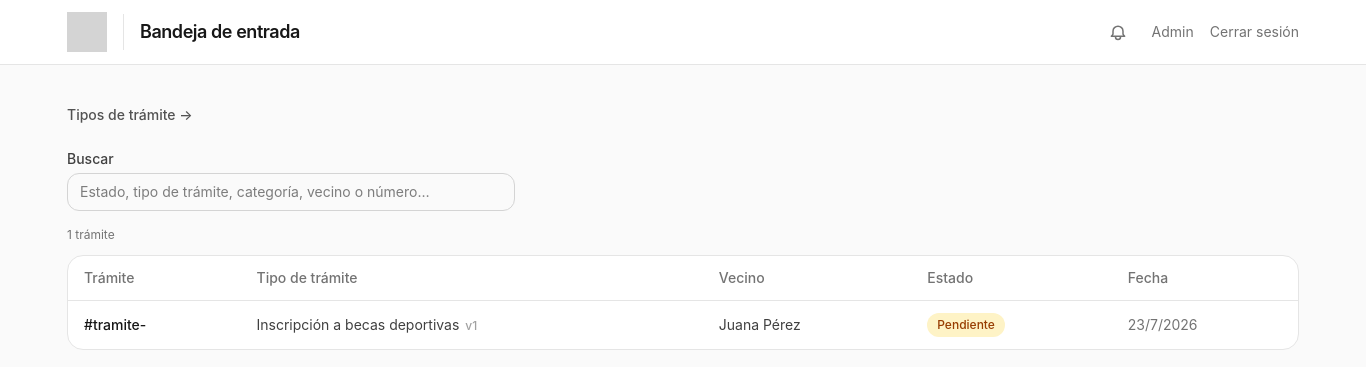
Test: BandejaEntrada › al escribir en el buscador, espera la pausa y pide la búsqueda al backend desde offset 0
Check: the text "Juana Pérez" is shown, box [703, 300, 911, 349]
Type "gómez" into the search field labelled "Buscar" at (291, 192), box [67, 173, 515, 211]
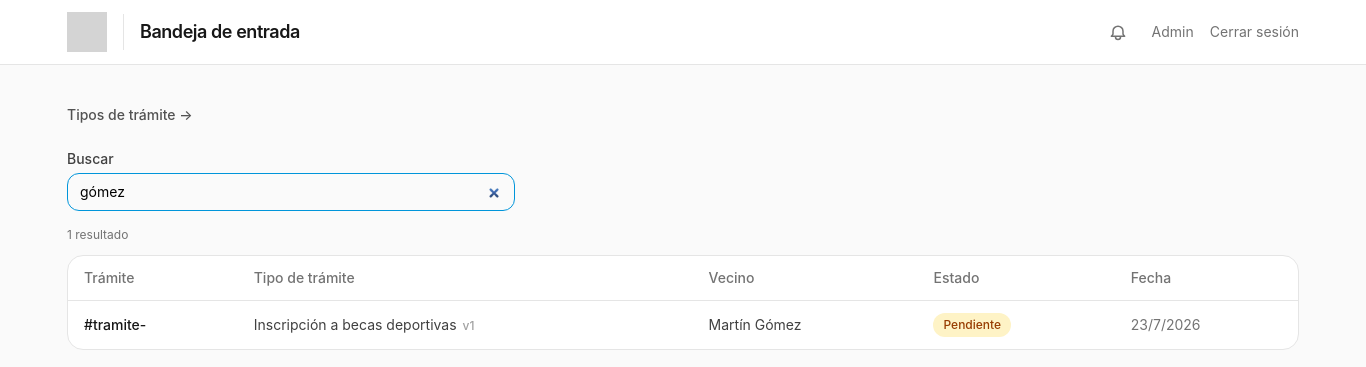
Check: the text "Martín Gómez" is shown, box [693, 300, 918, 349]
